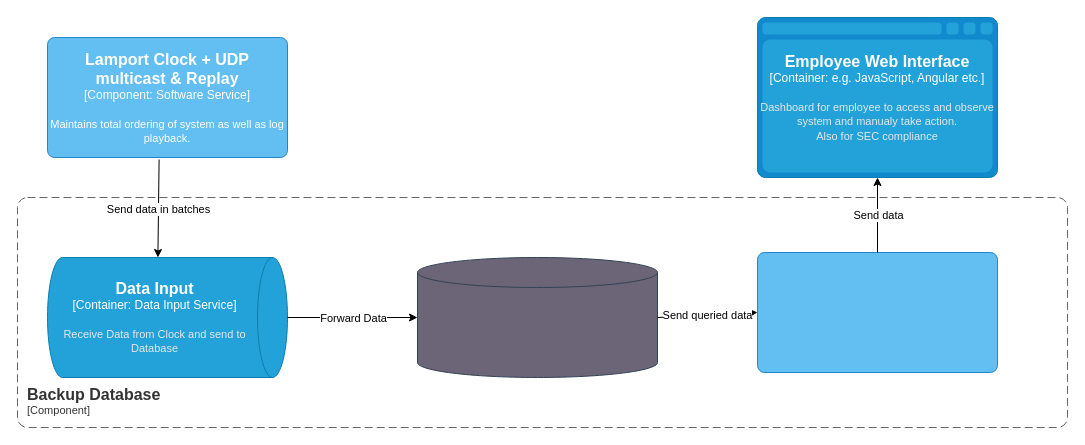
Some shapes in this 1085 by 445 pixel diagram are drawn without their labels. The shapes that lost their labels are listed below. From the top down, each one's centre as x and y in pixels, then its label:
At (x=537, y=317): "Database [Container: Oracle, MySQL etc] Store All Data".
At (x=877, y=312): "Database api service [Component: Software Service] Database query service".
